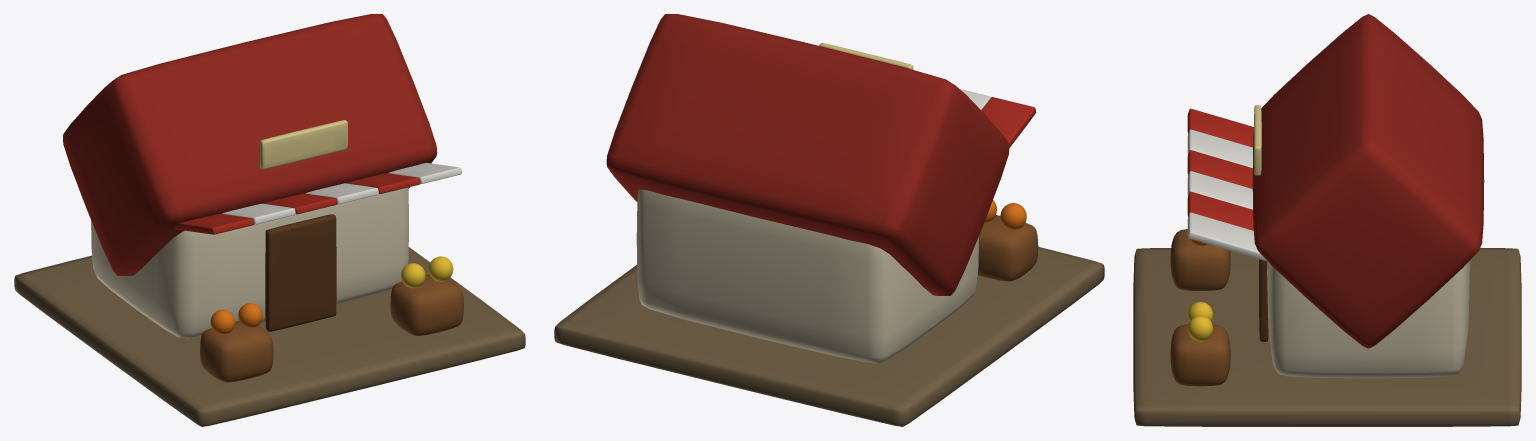
Rendered from HofladenKontor.fbx.
The picture shows the model from 3 angles, left to right: view 1: azimuth 30°, elevation 25°; view 2: azimuth 150°, elevation 25°; view 3: azimuth 270°, elevation 25°; orthographic projection. The views are drawn at different scales.
Parts seen in each view (by area): view 1: HofladenKontor; view 2: HofladenKontor; view 3: HofladenKontor.
Boxes of the visible parts, bbox=[...] form: HofladenKontor: bbox=[14, 14, 525, 426]; HofladenKontor: bbox=[554, 14, 1104, 426]; HofladenKontor: bbox=[1133, 14, 1521, 426].
Bounding box in the file's own units: 1.9 × 1.46 × 1.9.
